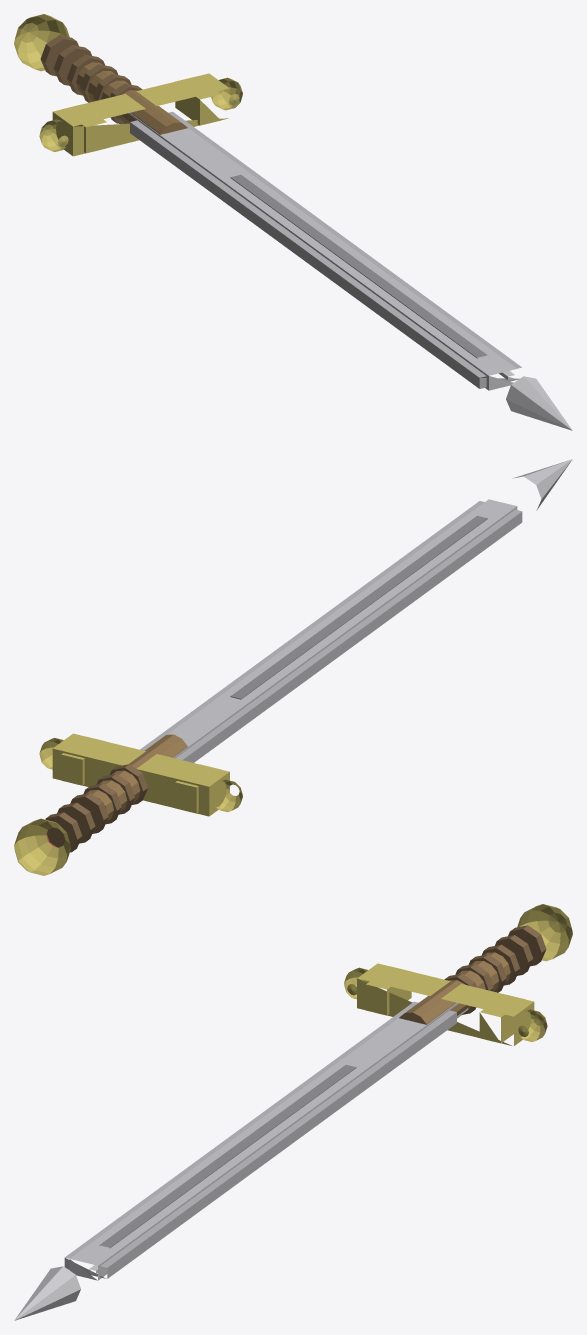
Rendered from sword.glb.
3 renders of one model, top to bottom at view 1: azimuth 30°, elevation 25°; view 2: azimuth 150°, elevation 25°; view 3: azimuth 330°, elevation 25°, orthographic.
Parts seen in each view (by area): view 1: geometry_0; view 2: geometry_0; view 3: geometry_0.
Boxes of the visible parts, x1,y1,x2,y2 form: geometry_0: (14, 14, 572, 430); geometry_0: (14, 459, 572, 875); geometry_0: (14, 904, 572, 1320).
Size of the model in its own units: 0.28 by 0.0666 by 1.33.
